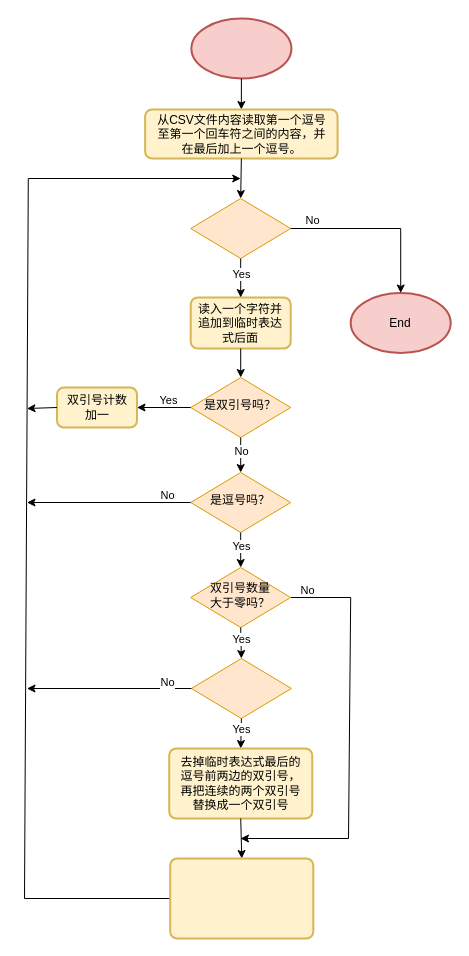
Some shapes in this 469 by 956 pixel diagram are drawn without their labels. Here are the shapes that lost their labels. From the top down, the centre of each, then its label:
At pixel 241 48: "Start".
At pixel 240 228: "还有内容吗？".
At pixel 240 688: "双引号数量 是偶数吗？".
At pixel 241 898: "从临时表达式中去掉 最后的逗号，写入正 则表达式数组，清空 临时表达式，双引号 计数置零".
